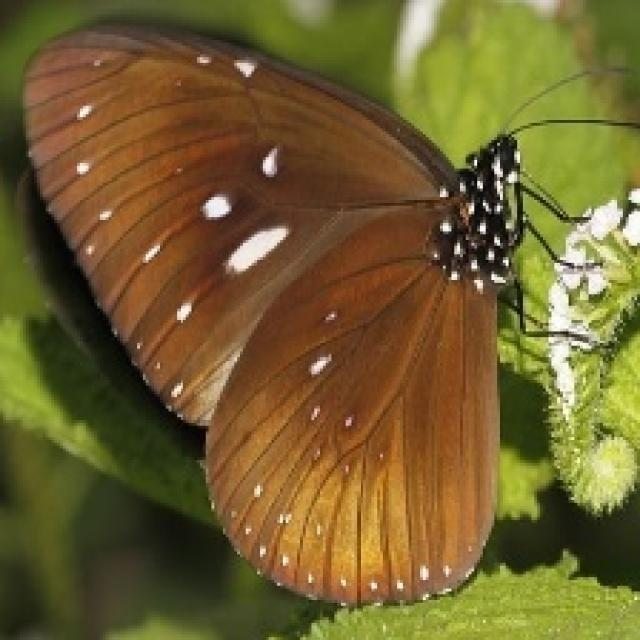butterfly: (14, 14, 637, 609)
